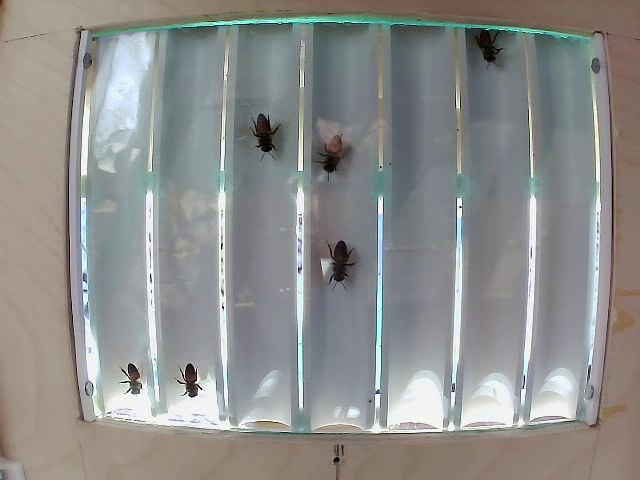bee: (319, 220, 355, 292), (243, 103, 280, 169), (172, 340, 212, 401), (315, 130, 352, 182), (110, 360, 148, 395), (467, 33, 499, 72)
